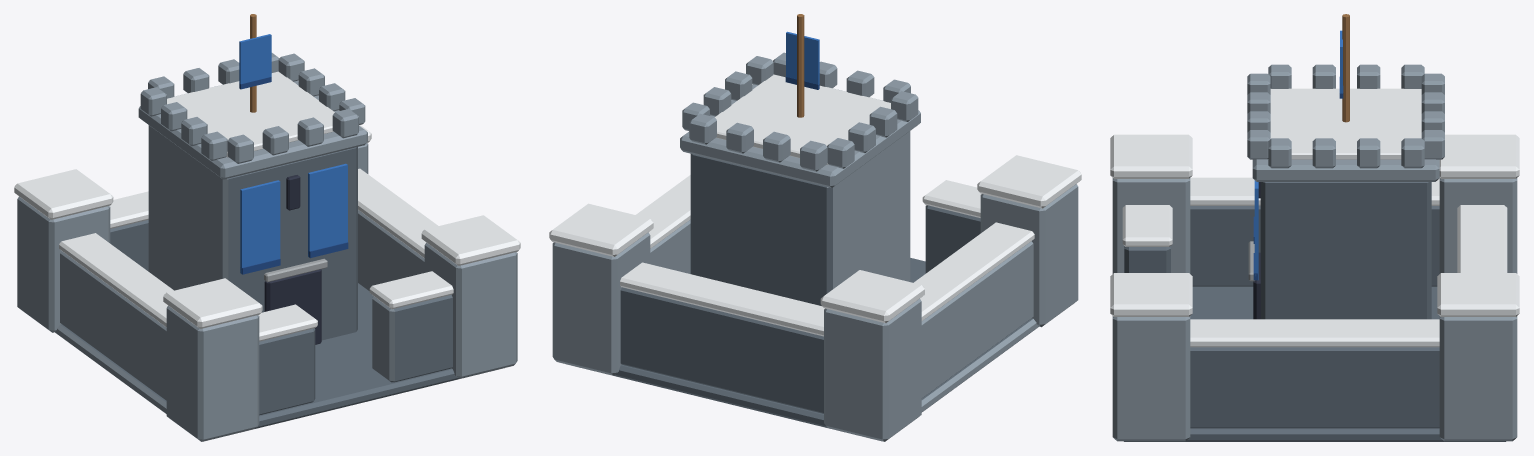
Rendered from HQ_Ridge.fbx.
3 renders of one model, left to right at view 1: azimuth 30°, elevation 25°; view 2: azimuth 150°, elevation 25°; view 3: azimuth 270°, elevation 25°, orthographic. The views are drawn at different scales.
Visible parts, largest first — view 1: HQ_Ridge; view 2: HQ_Ridge; view 3: HQ_Ridge.
Boxes of the visible parts, bbox=[...] form: HQ_Ridge: bbox=[14, 14, 520, 441]; HQ_Ridge: bbox=[549, 14, 1081, 441]; HQ_Ridge: bbox=[1110, 14, 1519, 441].
Bounding box in the file's own units: 5.26 × 4.9 × 5.26.
